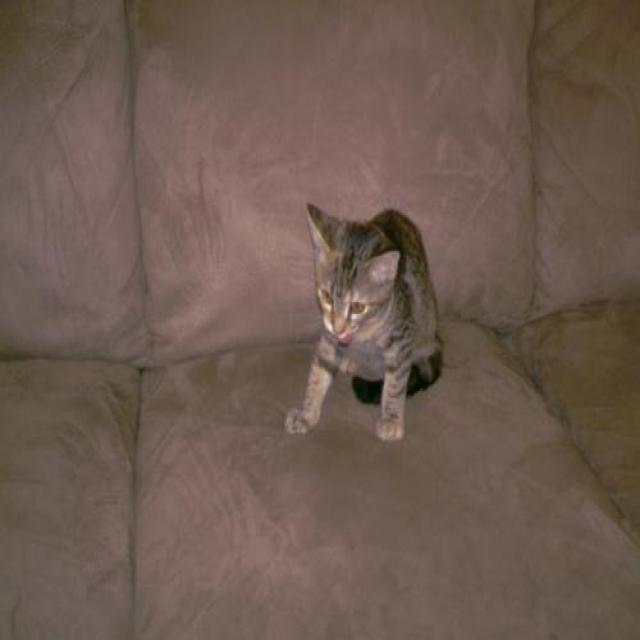Cats: (283, 200, 443, 442)
